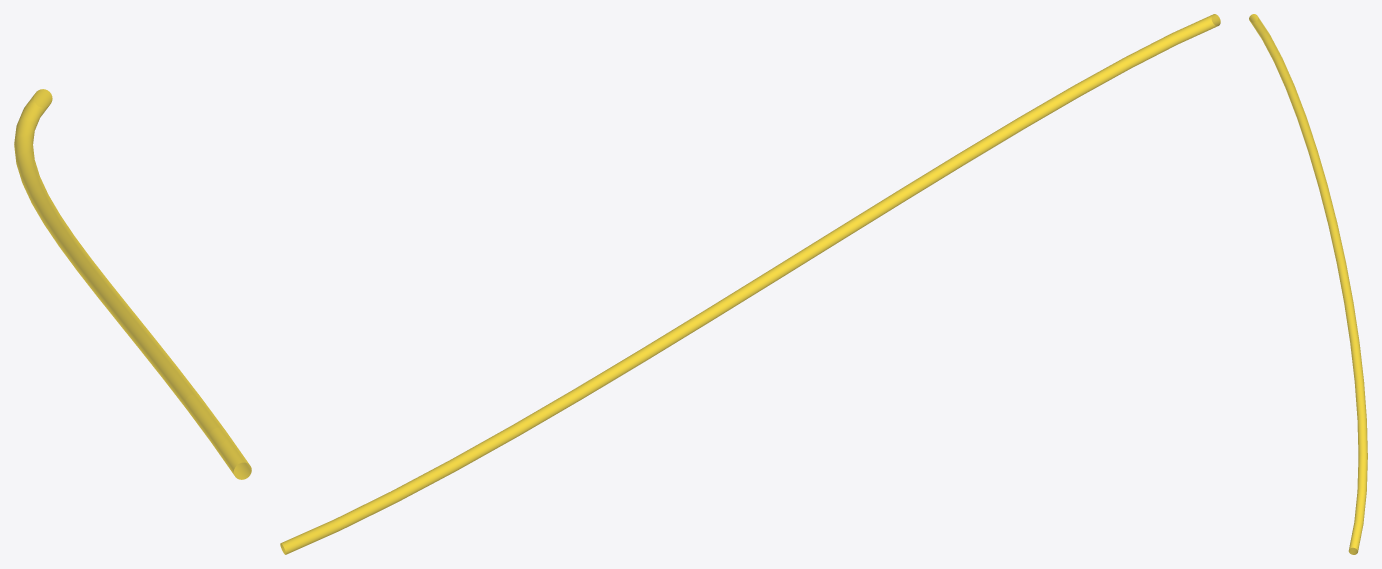
The model's file is Event_84804159_track_99.fbx.
3 renders of one model, left to right at view 1: azimuth 90°, elevation 25°; view 2: azimuth 210°, elevation 25°; view 3: azimuth 270°, elevation 25°, orthographic. The views are drawn at different scales.
Visible parts, largest first — view 1: Model; view 2: Model; view 3: Model.
Boxes of the visible parts, x1,y1,x2,y2 form: Model: [14, 89, 251, 479]; Model: [280, 14, 1220, 554]; Model: [1249, 14, 1367, 554].
Bounding box in the file's own units: 3.62 × 0.8493 × 0.5034.
